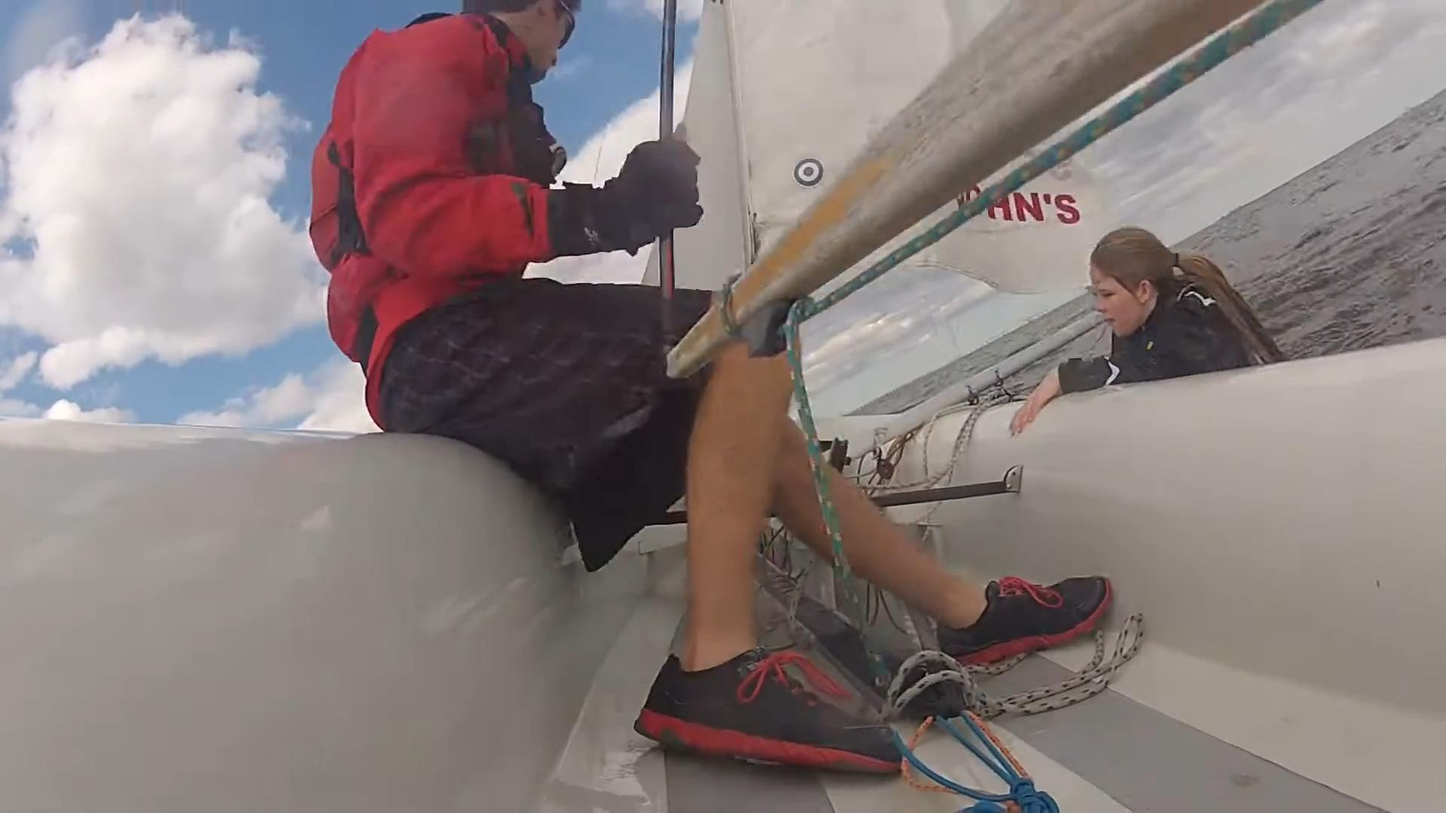boat: (794, 333, 1446, 813), (0, 420, 688, 813), (671, 0, 1274, 375)
person: (310, 0, 1112, 775), (1011, 230, 1281, 421)
sea: (1169, 87, 1446, 362), (842, 293, 1106, 419)
sky: (797, 0, 1423, 419), (2, 0, 463, 434), (534, 0, 664, 188)
